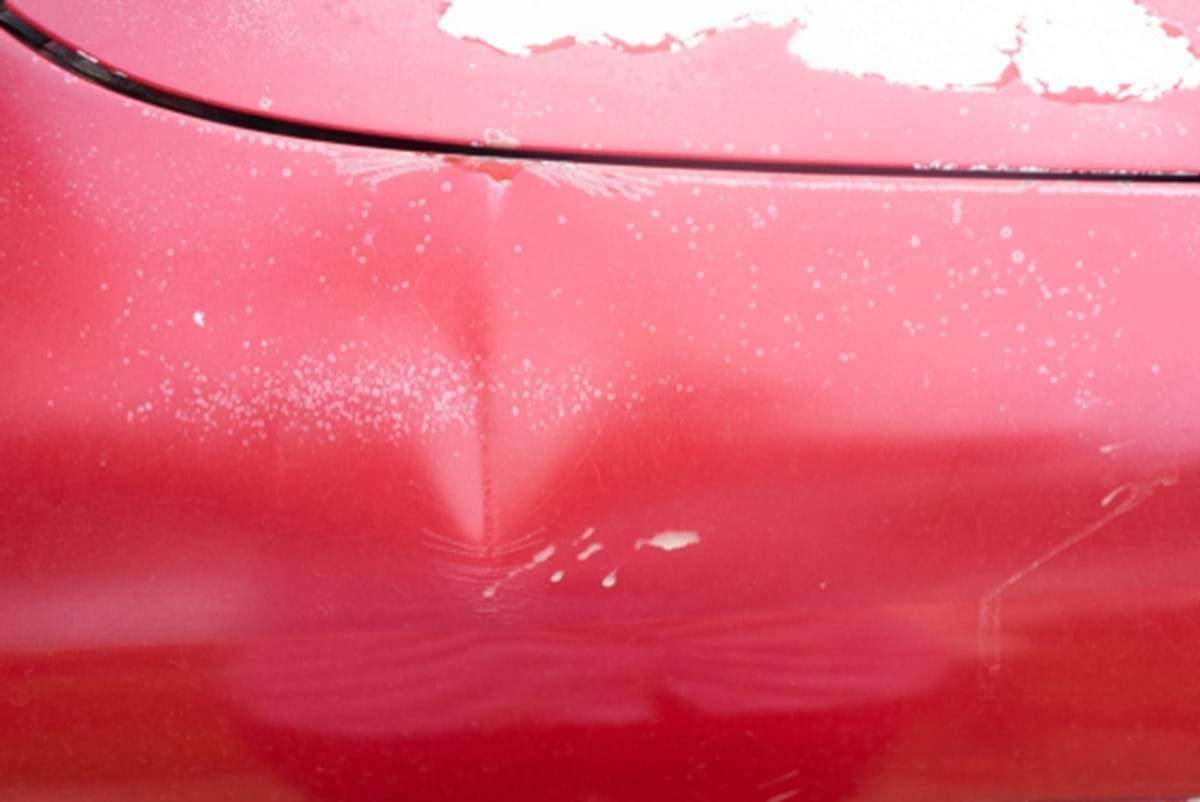dent: (390, 132, 658, 602)
